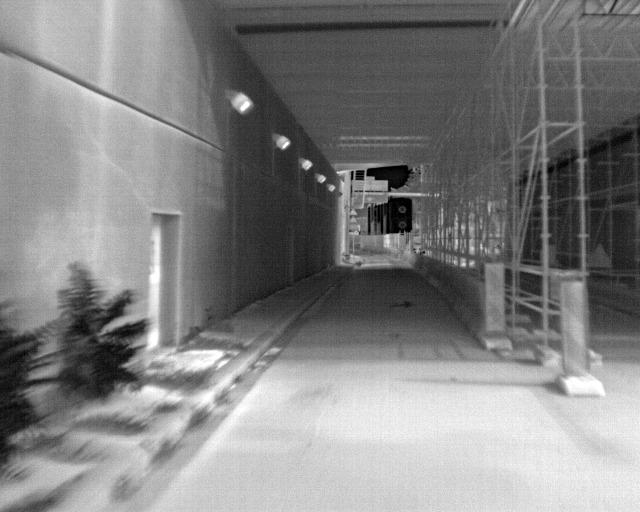light: (399, 206, 406, 228)
sign: (587, 245, 612, 269), (353, 180, 388, 191), (356, 195, 388, 203), (350, 216, 358, 224), (350, 209, 358, 215), (349, 225, 358, 230)
